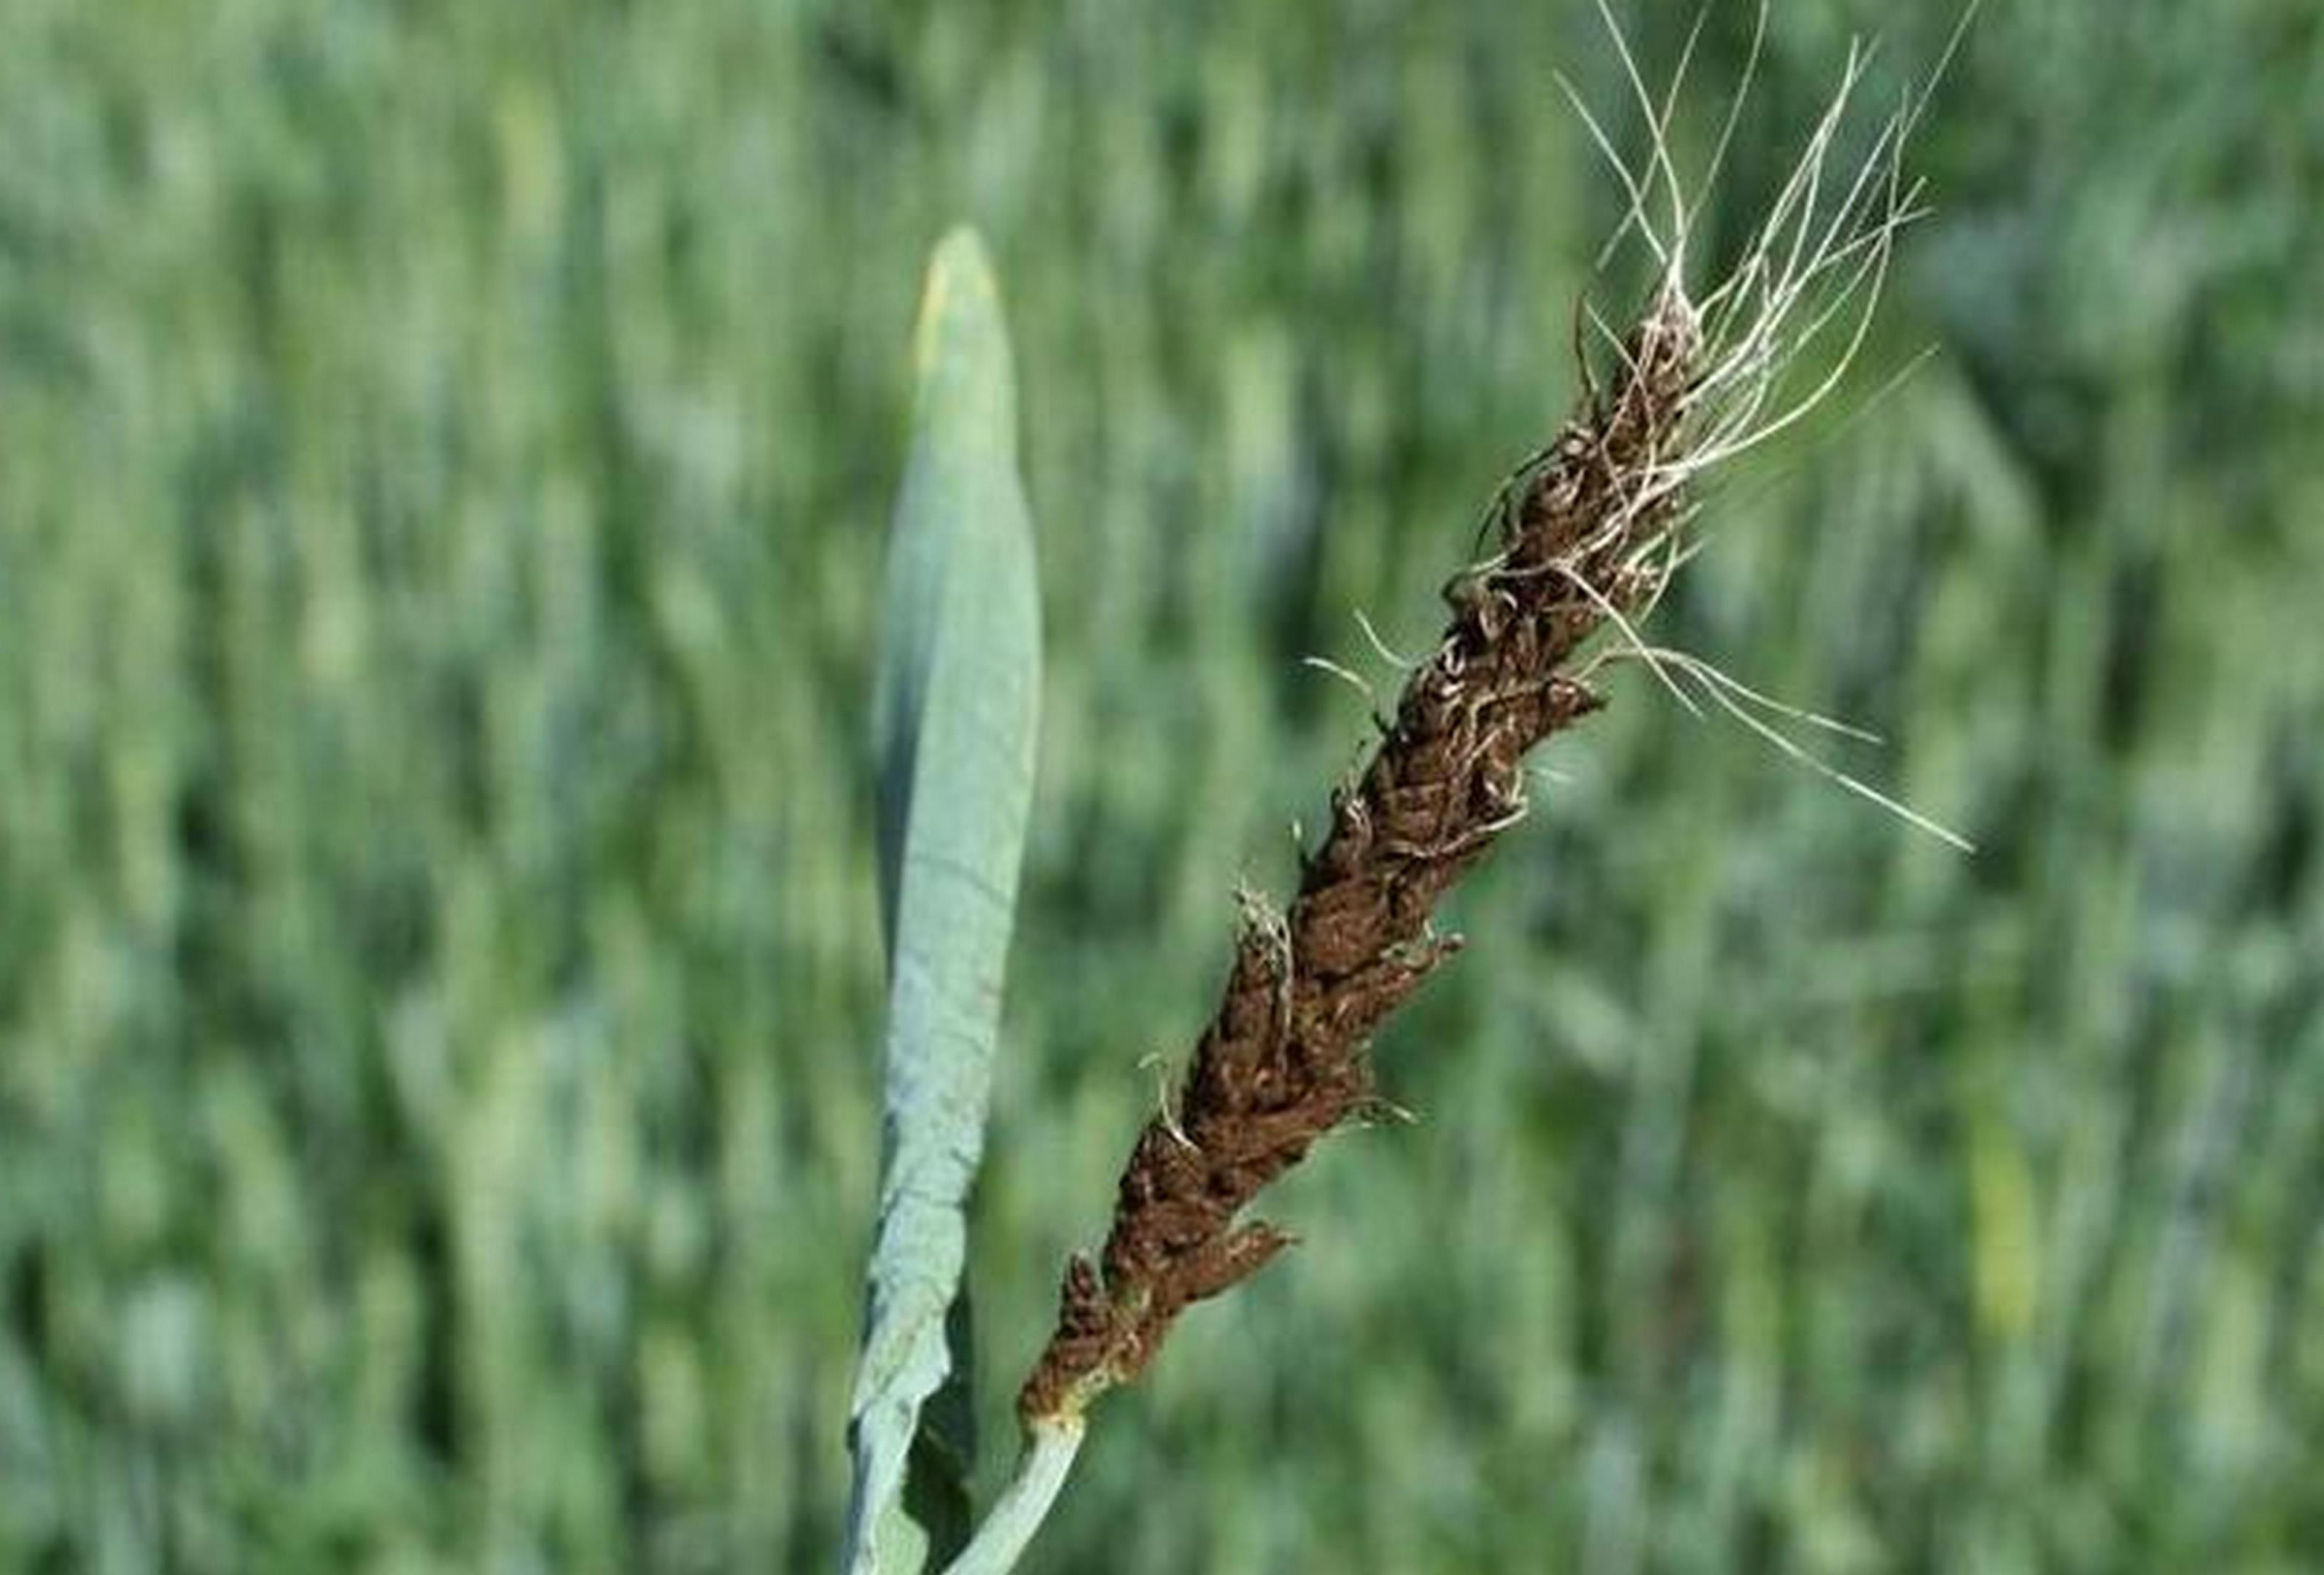Wheat Loose Smut: (1042, 359, 1730, 1408)
